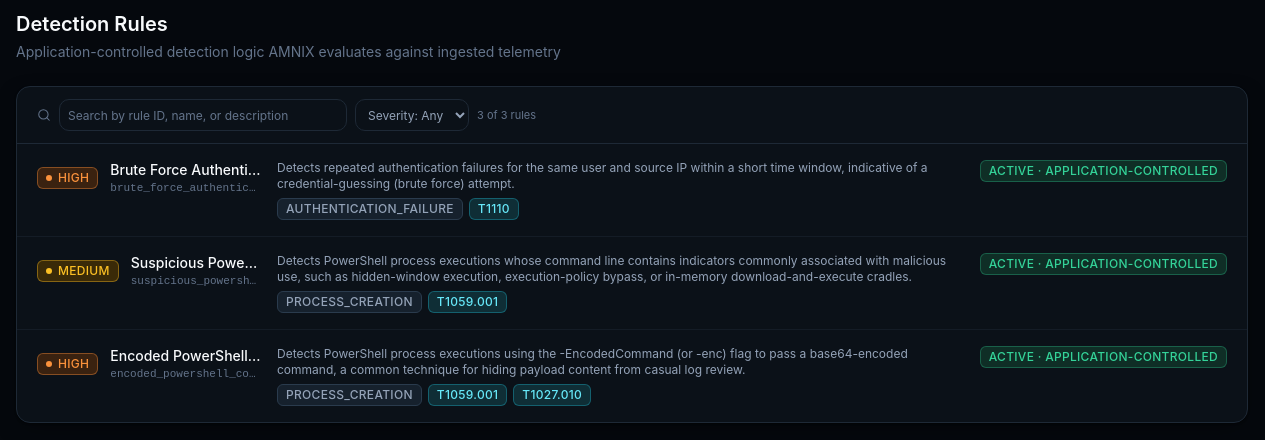
Test: RuleExplorerPage › shows an honest empty state when no rule matches the filter -- never fabricates a rule
This screenshot has width=1265, height=440.
Type "does-not-exist-rule" into the field named "search rules" at (203, 115), box [59,99,347,131]
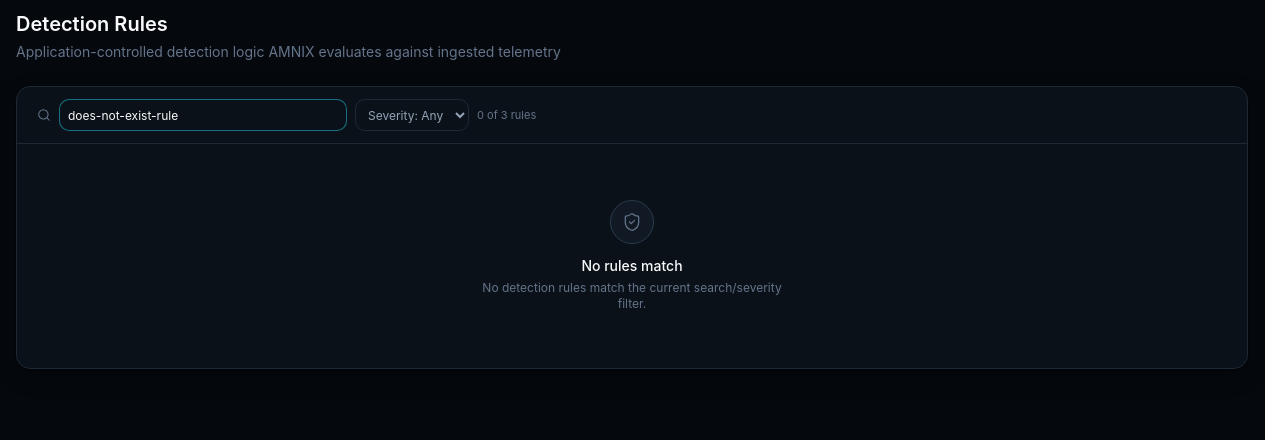
Now the text "No rules match" is shown, box [581,257,683,274]
